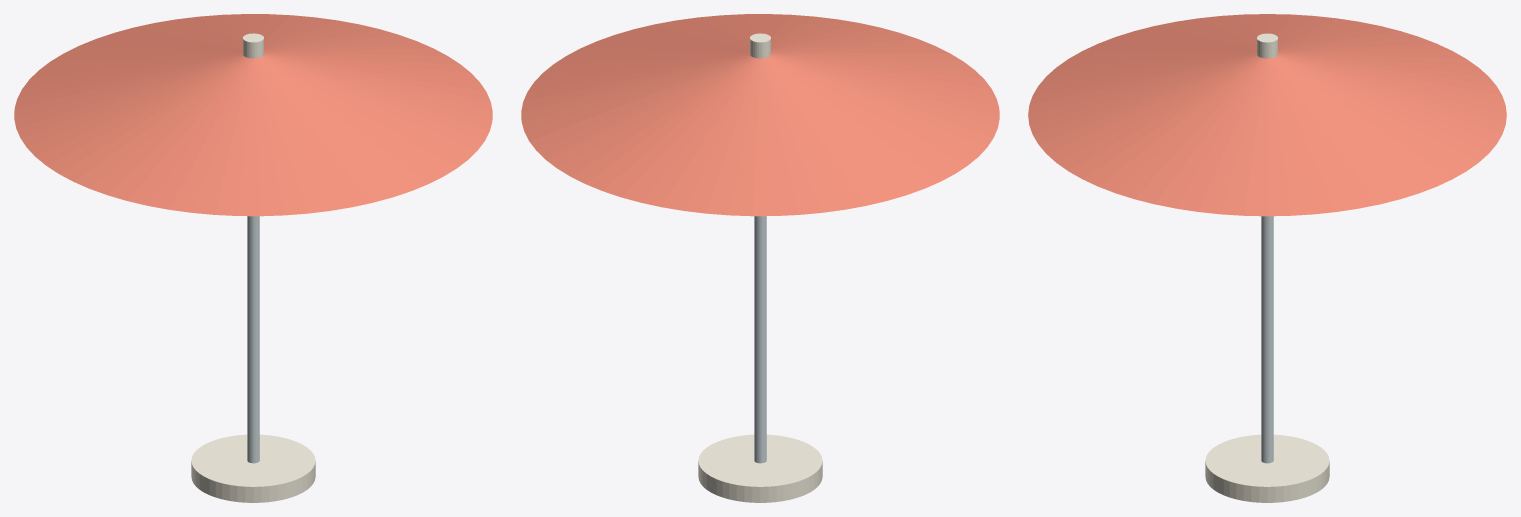
The model's file is waterpark-and-pool-operations-waterpark-and-pool-opera-ab1d46b2__28968.glb.
3 views of the same model, side by side, from view 1: azimuth 30°, elevation 25°; view 2: azimuth 150°, elevation 25°; view 3: azimuth 270°, elevation 25° (orthographic).
Visible parts, largest first — view 1: waterpark-and-pool-operations-parasol; view 2: waterpark-and-pool-operations-parasol; view 3: waterpark-and-pool-operations-parasol.
Boxes of the visible parts, x1,y1,x2,y2 form: waterpark-and-pool-operations-parasol: (14,14,492,502); waterpark-and-pool-operations-parasol: (521,14,999,502); waterpark-and-pool-operations-parasol: (1028,14,1506,502).
Bounding box in the file's own units: 2.7 × 2.73 × 2.7.
